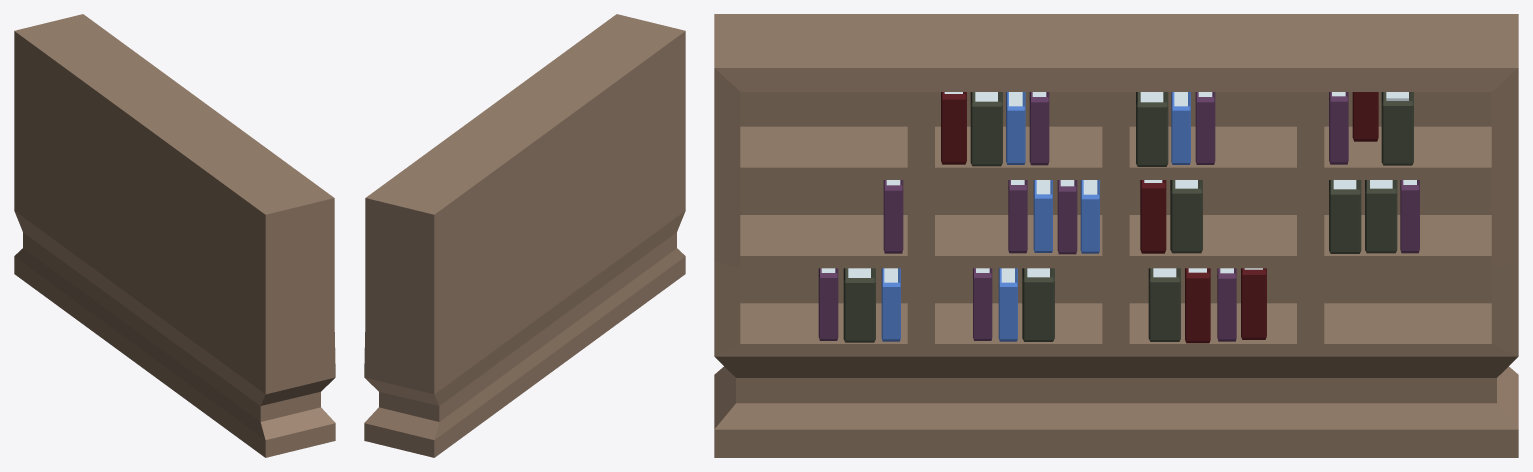
The model's file is w_r_bookshelf.glb.
3 views of the same model, side by side, from view 1: azimuth 30°, elevation 25°; view 2: azimuth 150°, elevation 25°; view 3: azimuth 270°, elevation 25° (orthographic). The views are drawn at different scales.
Visible parts, largest first — view 1: Bookshelf; view 2: Bookshelf; view 3: Bookshelf, Cover_C.001, Cover_C.009, Cover_C.004, Cover_C.002, Cover_C.008, Cover_C.003, Cover_C.005, Cover_C.006, Cover_C.007, Cover_A, Cover_A.002 (+19 smaller).
Boxes of the visible parts, bbox=[...] form: Bookshelf: bbox=[14, 14, 335, 457]; Bookshelf: bbox=[364, 14, 685, 457]; Bookshelf: bbox=[714, 14, 1518, 457]; Cover_C.001: bbox=[970, 92, 1002, 166]; Cover_C.009: bbox=[1170, 180, 1202, 253]; Cover_C.004: bbox=[1365, 180, 1397, 253]; Cover_C.002: bbox=[1136, 92, 1168, 166]; Cover_C.008: bbox=[843, 268, 875, 342]; Cover_C.003: bbox=[1329, 180, 1361, 253]; Cover_C.005: bbox=[1381, 92, 1413, 165]; Cover_C.006: bbox=[1148, 268, 1180, 341]; Cover_C.007: bbox=[1022, 268, 1054, 341]; Cover_A: bbox=[1140, 180, 1166, 253]; Cover_A.002: bbox=[1185, 268, 1210, 343].
Size of the model in its own units: 2.08 by 6.62 by 12.39.
